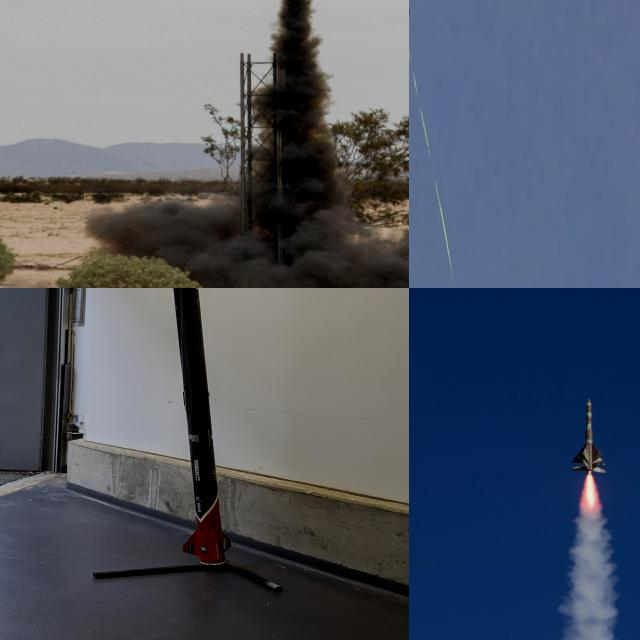Rocket: (173, 288, 231, 565), (570, 396, 608, 475)
